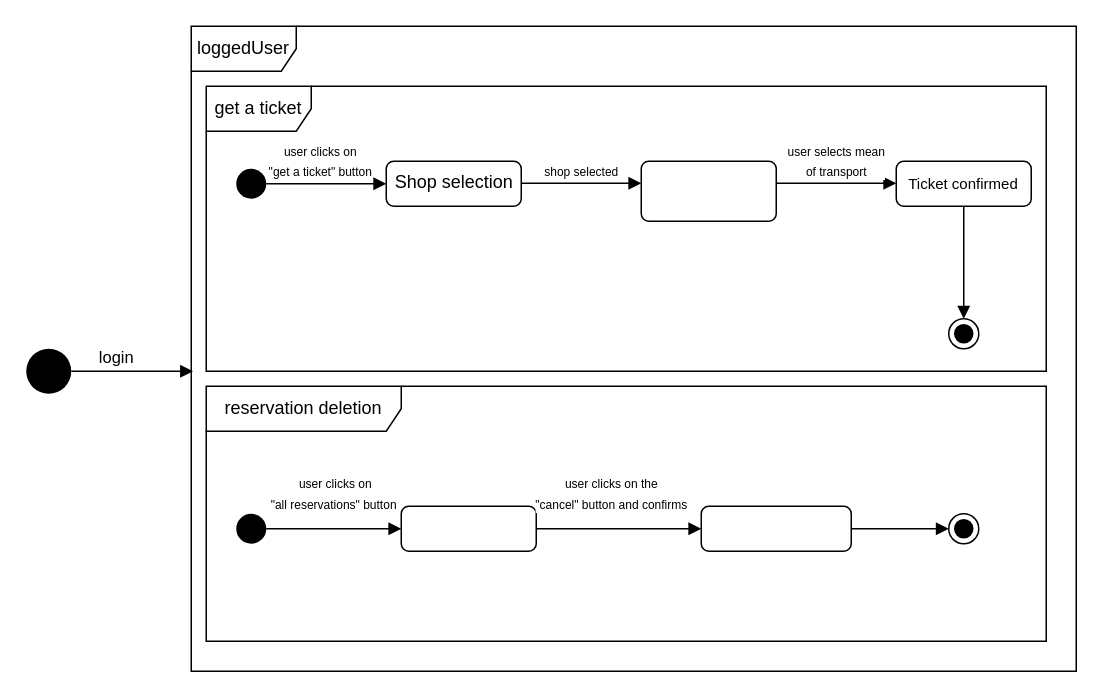
The diagram is 1103 pixels wide and 698 high, and some of its shapes have lost their labels. The shapes that lost their labels are listed below. From the top down, each one's centre as x and y in pixels, then its label:
(708,190): Mean of transport selection
(468,528): Reservations List
(775,528): Reservation canceled
